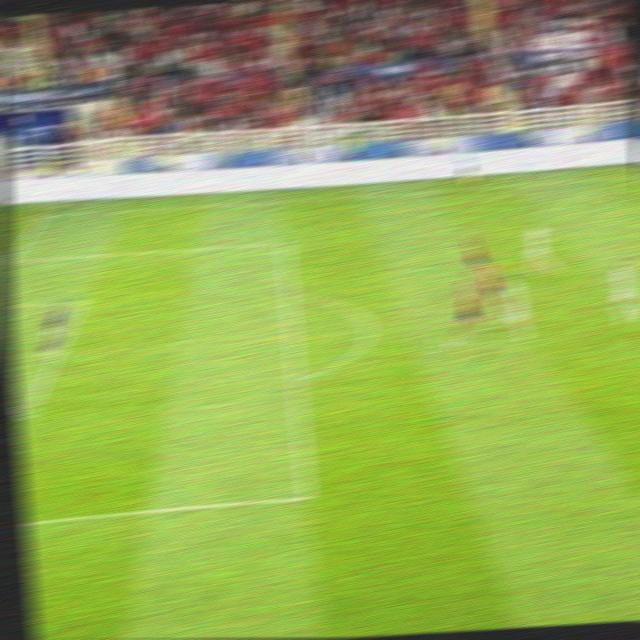bigarea_bottom_inner: (290, 481, 320, 509)
bigarea_top_inner: (273, 234, 296, 251)
bigarea_top_outter: (4, 250, 23, 266)
bottom_arc_area_intersection: (284, 369, 308, 389)
corner: (30, 206, 57, 220)
smallarea_bottom_inner: (12, 401, 38, 426)
smallarea_top_inner: (67, 291, 90, 311)
top_arc_area_intersection: (277, 284, 301, 302)
